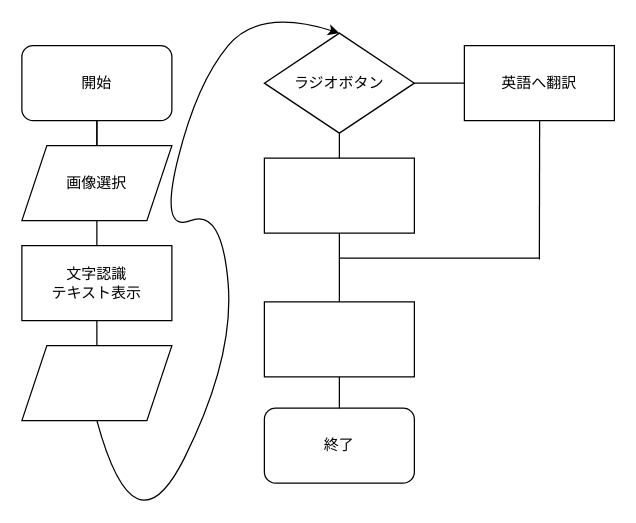
Some shapes in this 636 by 523 pixel diagram are drawn without their labels. The shapes that lost their labels are listed below. From the top down, each one's box as (x1, y1, x2, y2) in pixels, then its label:
(263, 157, 414, 233): 日本語へ翻訳
(263, 301, 414, 377): 翻訳したものを表示
(21, 344, 172, 421): 翻訳ボタン押下
